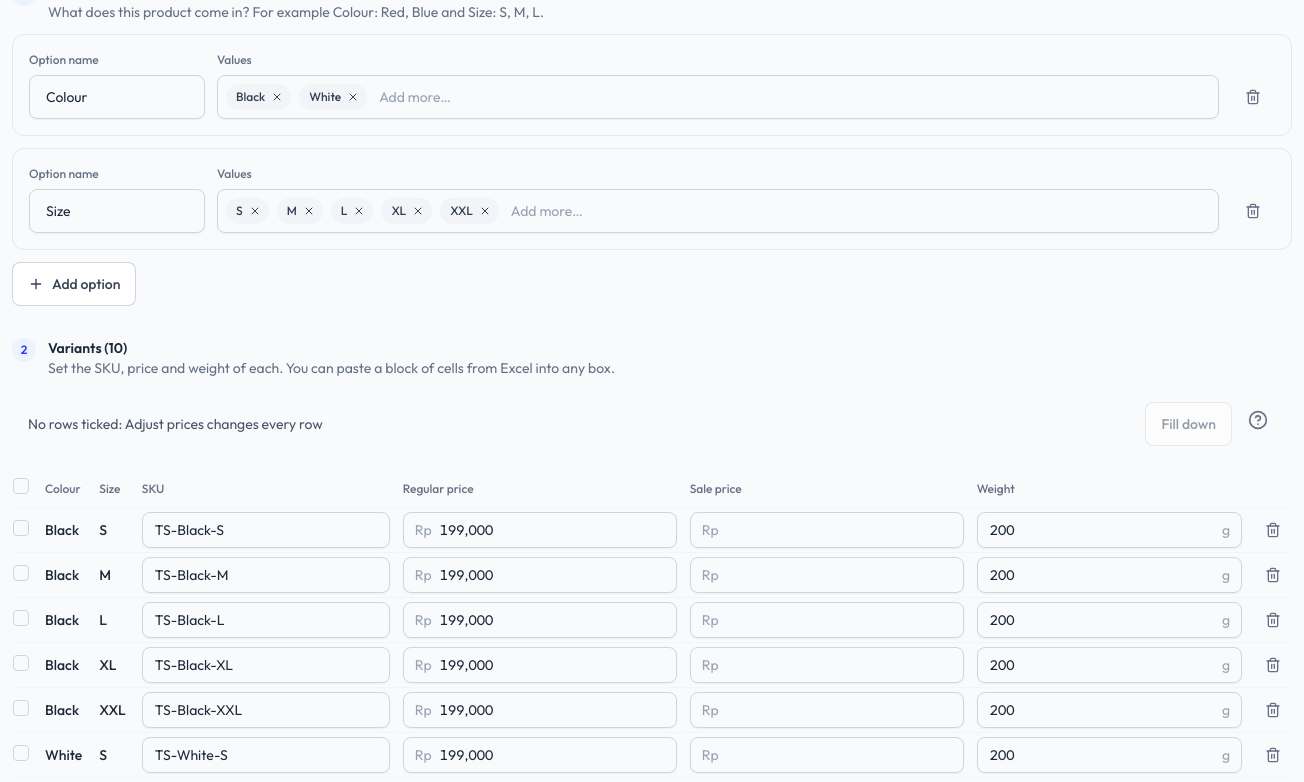
Test case: VariantMatrix (P1-046) › renders a 2×5 grid as 10 rows and saves it in one request; a failed row shows its error
This screenshot has width=1304, height=782.
Step 1. Replace the text in the field named "Regular price for Black / S" with "219000" → x=540, y=530, box [403,512,677,548]
(page scrolled)
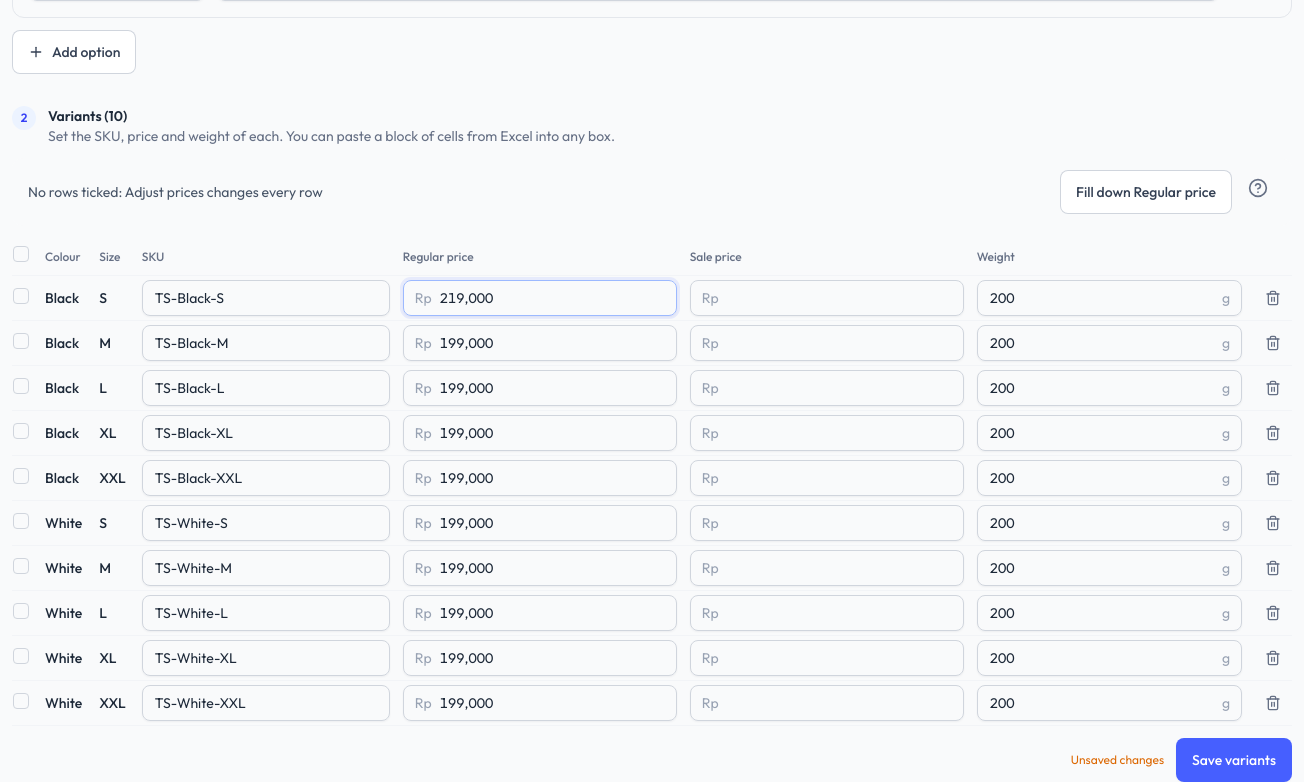
Step 2. Click the button "Save variants" → x=1234, y=760, box [1176,738,1292,781]
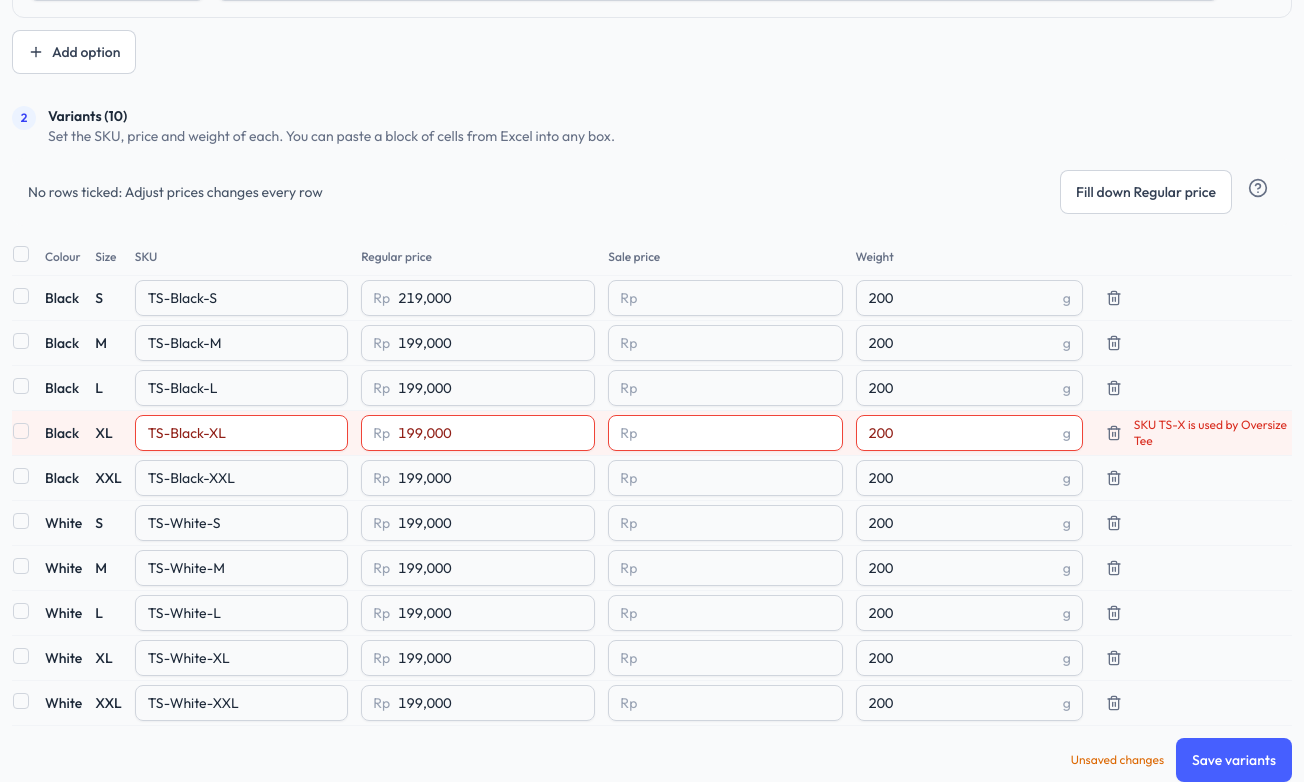
Result: the message reads "SKU TS-X is used by Oversize Tee" at [1134,417,1287,448]
